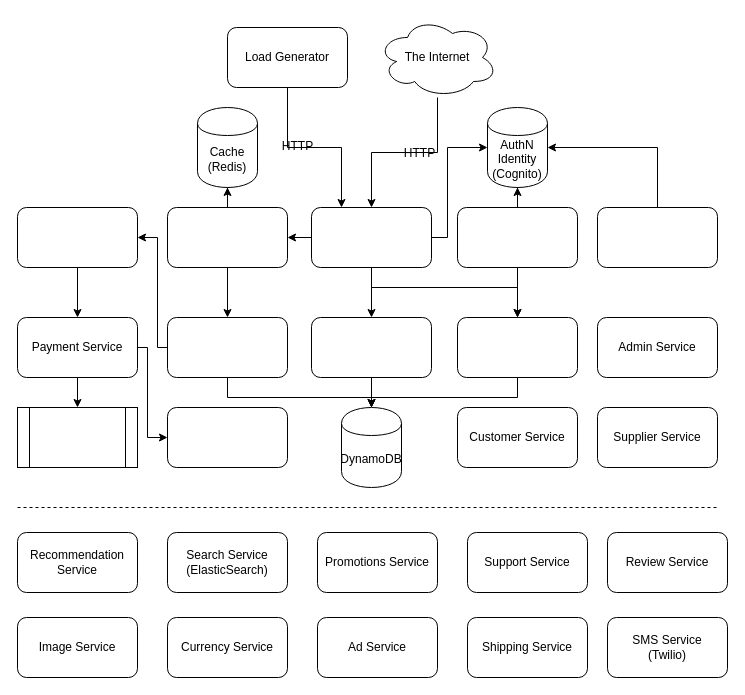
The diagram is 745 pixels wide and 695 high, and some of its shapes have lost their labels. The shapes that lost their labels are listed below. From the top down, each one's box as (x1, y1, x2, y2) in pixels, then its label:
(16, 206, 138, 268): Billing Service
(166, 206, 288, 268): Cart Service
(310, 206, 432, 268): Customer Frontend
(456, 206, 578, 268): Supplier Frontend
(596, 206, 718, 268): Admin Frontend
(166, 316, 288, 378): Order Service
(310, 316, 432, 378): Products Service
(456, 316, 578, 378): Inventory Service
(16, 406, 138, 468): SQS Queue
(166, 406, 288, 468): Email Service
